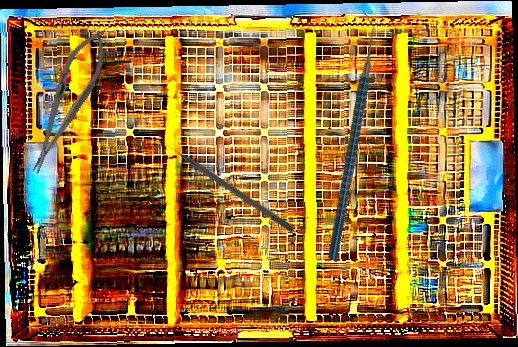Chopper: (247, 8, 451, 263)
Needle Holder: (17, 21, 118, 181)
Pusher: (157, 135, 297, 234)
